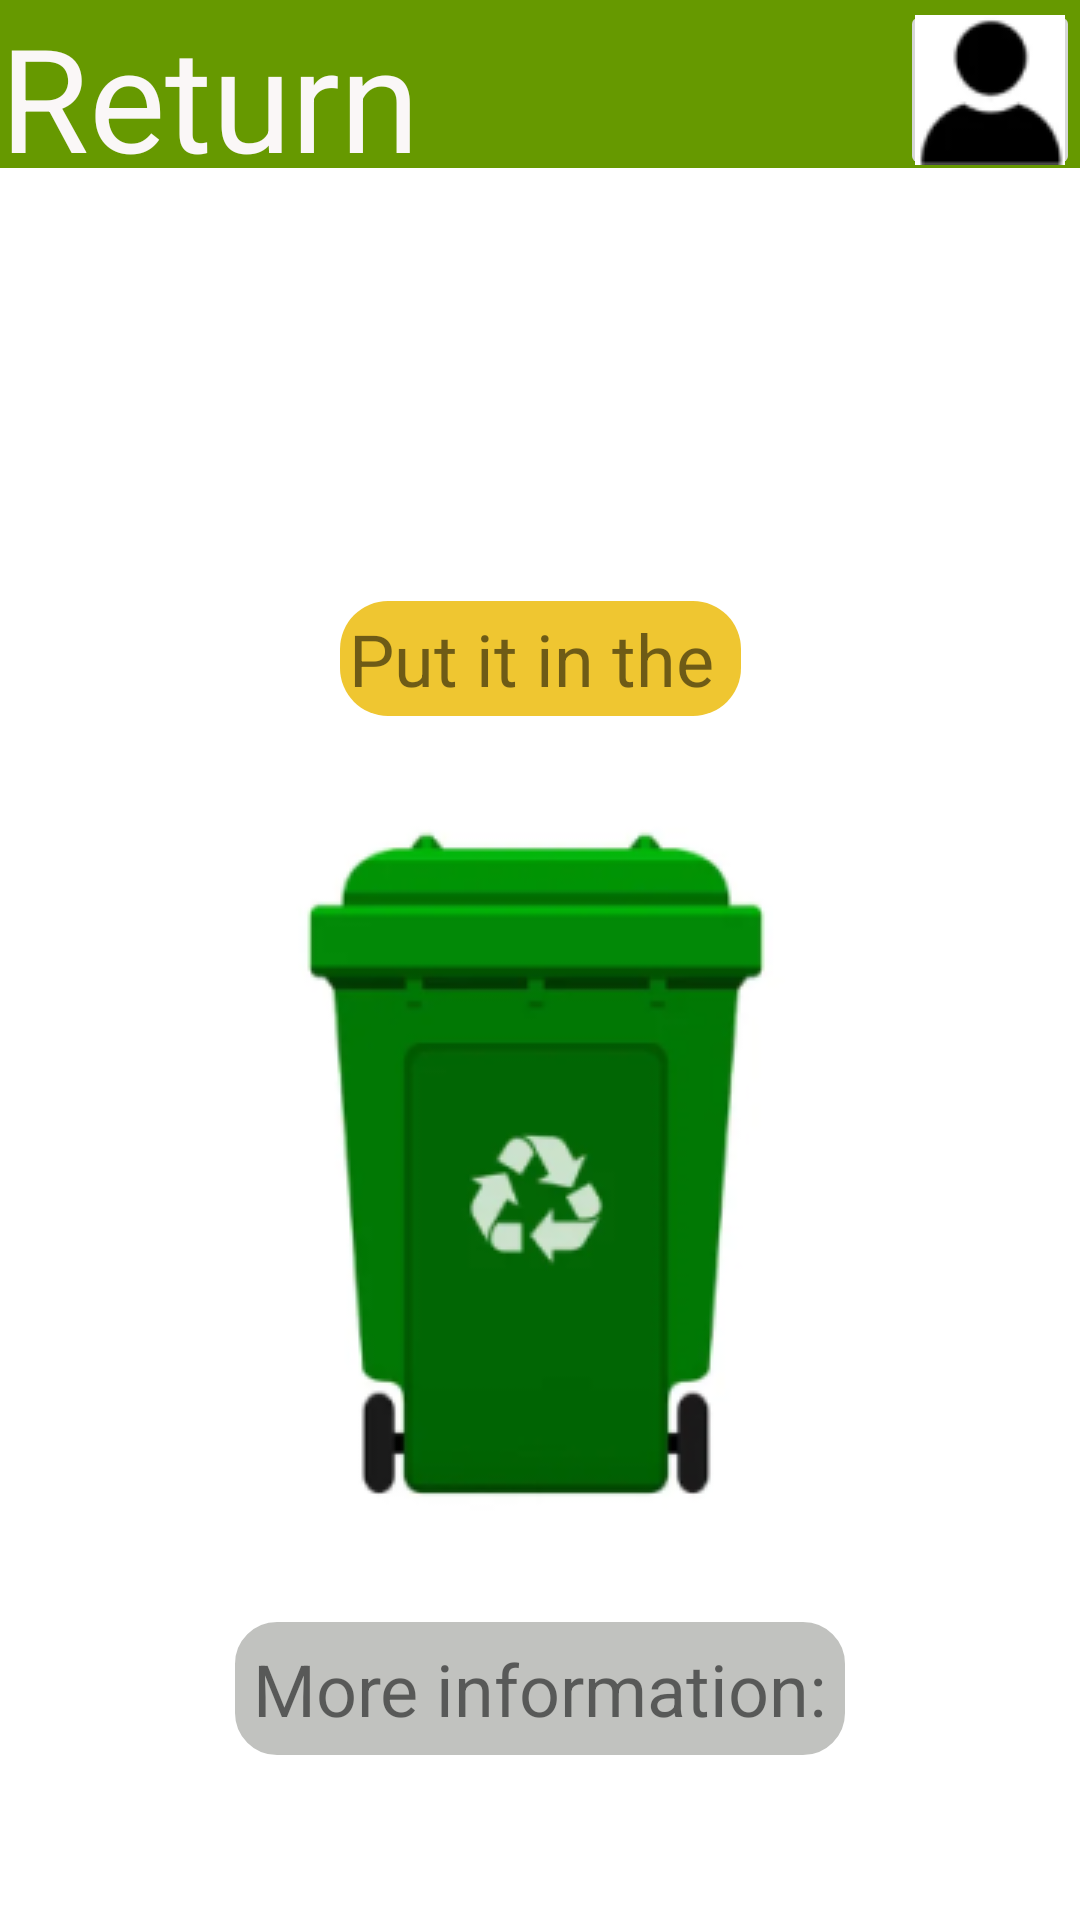

Icons on this 1080*1920 Android screen, each with the point to tap as (x=x, y=y):
account: (x=990, y=90)
